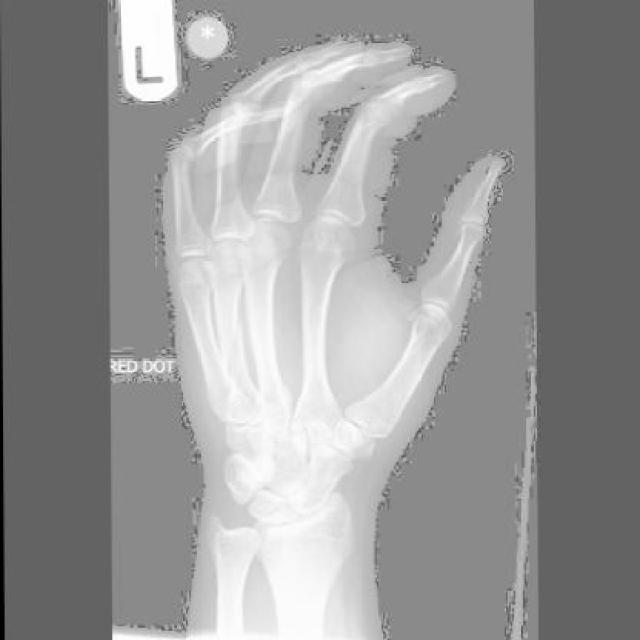Fracture: (208, 308, 246, 402)
